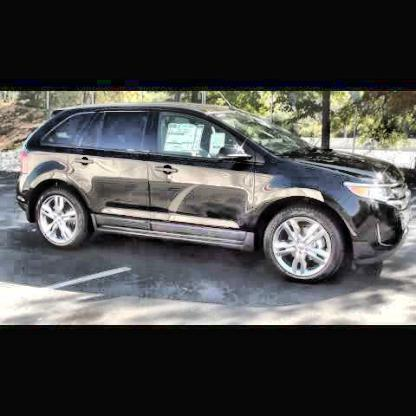Ford Edge SUV 2012: (16, 102, 414, 290)
